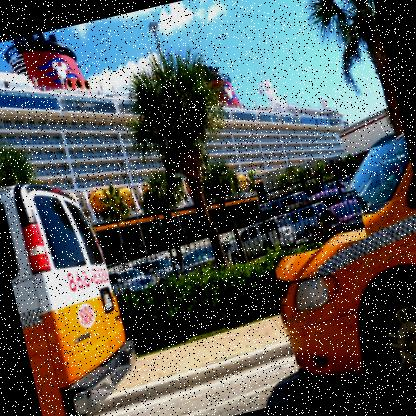Car: (253, 140, 415, 396), (102, 191, 368, 298)
